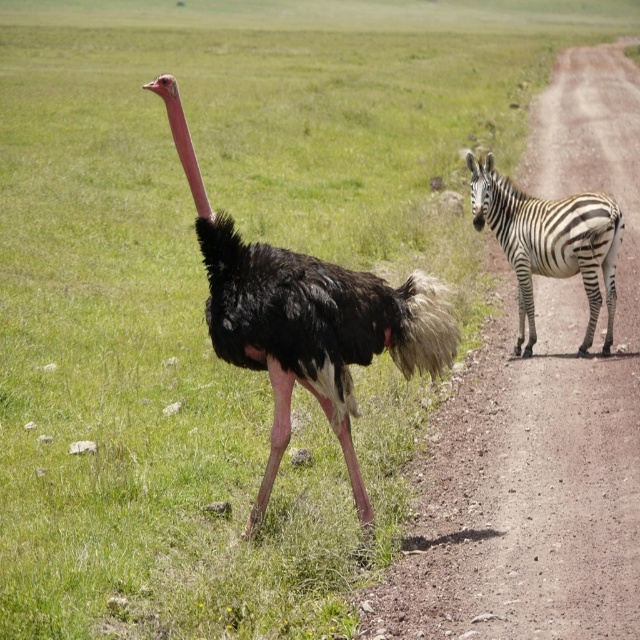Ostrich: (145, 73, 440, 548)
